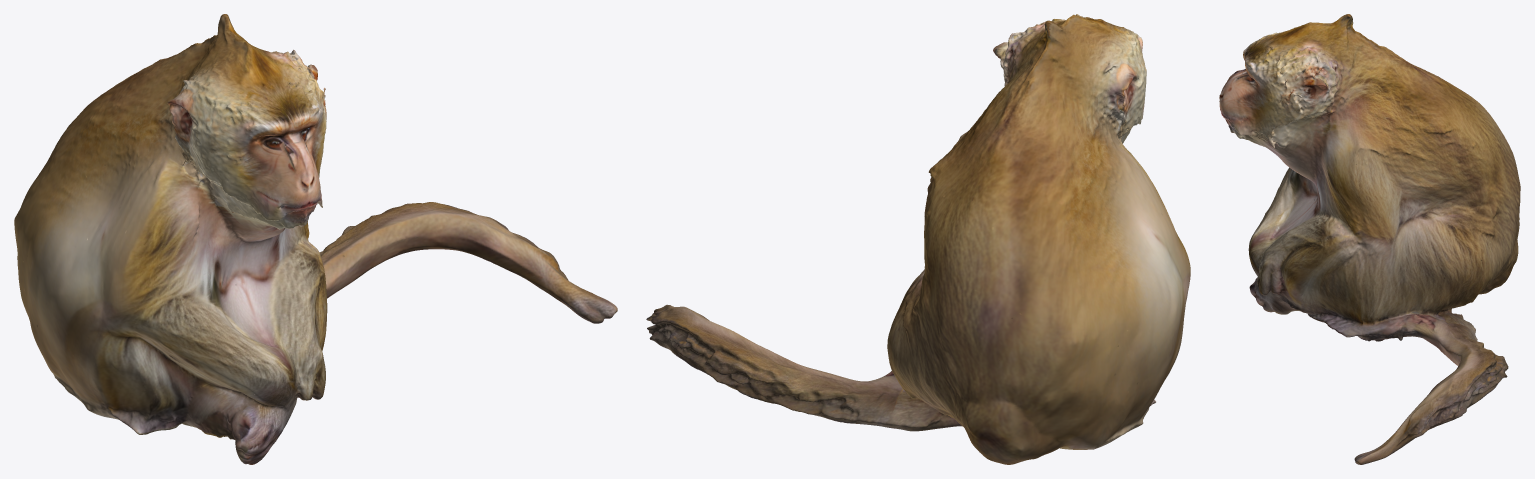
Rendered from Serene_Contemplation_0821050850_texture.fbx.
3 views of the same model, side by side, from view 1: azimuth 30°, elevation 25°; view 2: azimuth 150°, elevation 25°; view 3: azimuth 270°, elevation 25° (orthographic). The views are drawn at different scales.
Parts seen in each view (by area): view 1: input; view 2: input; view 3: input.
Part boxes in pixels (x1,y1,x2,y2): input: (14, 14, 617, 464); input: (646, 14, 1190, 464); input: (1219, 14, 1520, 464).
Bounding box in the file's own units: 171 × 121 × 107.
1 material, 1 textured.
